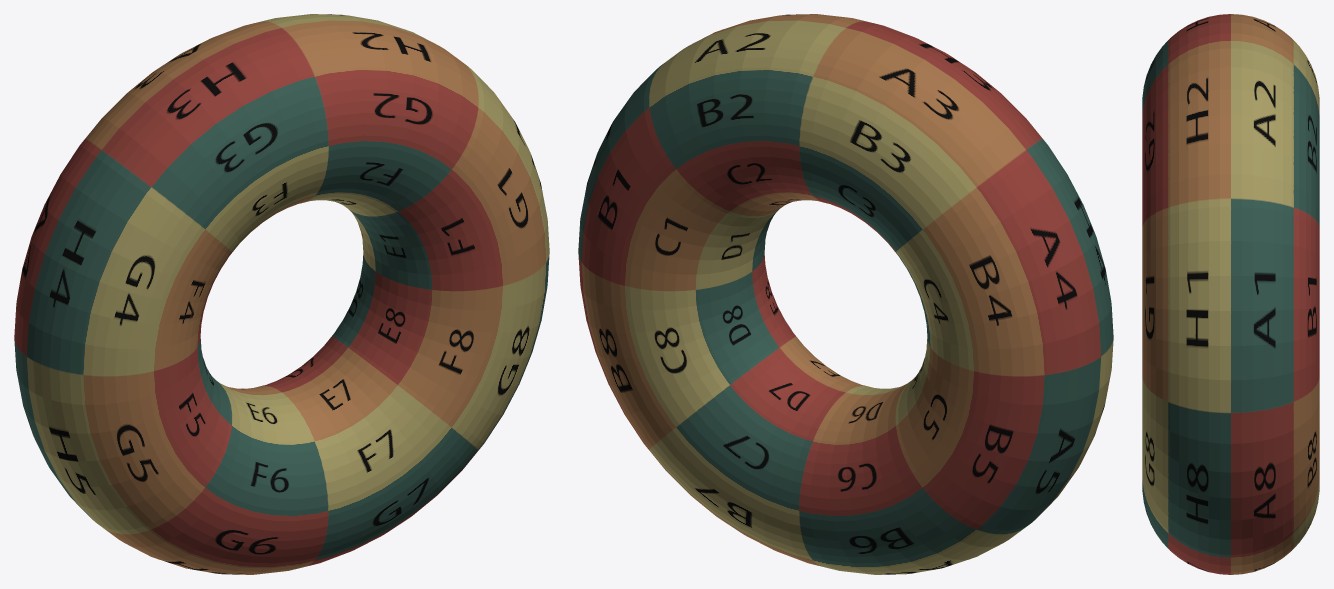
The model's file is texture_torus_R1_r11.glb.
The picture shows the model from 3 angles, left to right: view 1: azimuth 30°, elevation 25°; view 2: azimuth 150°, elevation 25°; view 3: azimuth 270°, elevation 25°; orthographic projection. The views are drawn at different scales.
Parts seen in each view (by area): view 1: world; view 2: world; view 3: world.
Part boxes in pixels (box(x1,y1,x2,y2)): world: box(14, 14, 549, 574); world: box(578, 14, 1113, 574); world: box(1142, 14, 1319, 574).
Bounding box in the file's own units: 15.6 × 15.57 × 4.92.
Materials: 1 (1 with a texture image).
